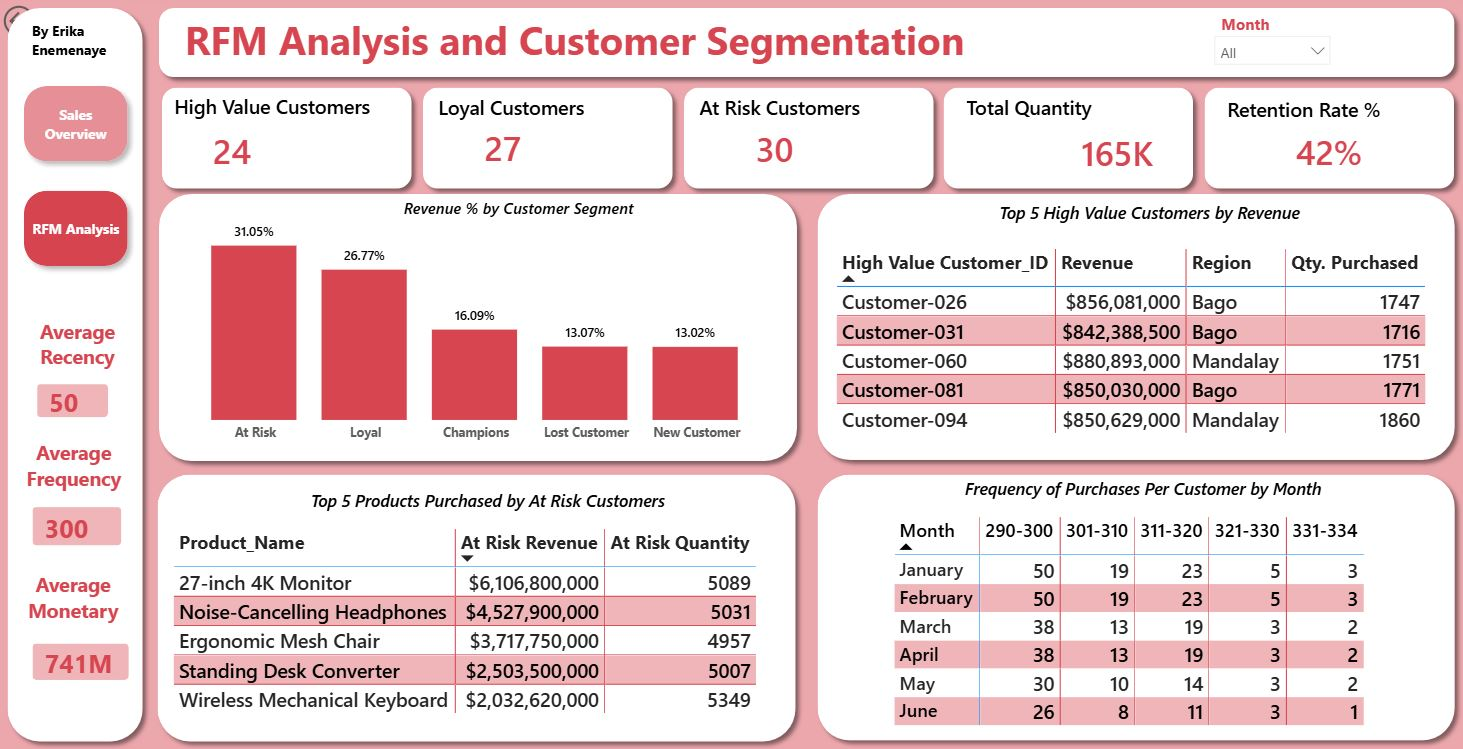

The page's visual inventory and layout, read from the dashboard file:
{"tool":"powerbi","page":{"name":"RFM Analysis","canvas":[1400,720],"ordinal":1},"visuals":[{"type":"shape","box":[145.1,-1.4,1255,84],"z":0,"group":"g14"},{"type":"shape","box":[147.2,73.8,256.4,114.6],"z":0,"group":"g4"},{"type":"shape","box":[396.2,73.8,256.4,114.6],"z":0,"group":"g6"},{"type":"shape","box":[645.1,73.8,256.4,114.6],"z":0,"group":"g7"},{"type":"shape","box":[894.1,73.8,256.4,114.6],"z":0,"group":"g8"},{"type":"shape","box":[1143.1,73.8,256.4,114.6],"z":0,"group":"g9"},{"type":"group","id":"g1","title":"Group 9","box":[144.3,177.3,627.2,273],"z":0,"group":"g20"},{"type":"shape","box":[144.3,177.3,627.2,273],"z":0,"group":"g1"},{"type":"shape","box":[0,-1.4,147.1,718.6],"z":1000,"group":"g15"},{"type":"cardVisual","fields":{"Data":["RFM Analysis & Customer Segmt.Loyal Customers"]},"box":[434.9,103.9,200.5,70.2],"z":1000,"group":"g6"},{"type":"cardVisual","fields":{"Data":["RFM Analysis & Customer Segmt.At Risk Customers"]},"box":[693.1,105.3,183.8,69.6],"z":1000,"group":"g7"},{"type":"cardVisual","fields":{"Data":["RFM Analysis & Customer Segmt.High Value Customers"]},"box":[175.8,106.7,200.5,70.2],"z":1000,"group":"g4"},{"type":"cardVisual","fields":{"Data":["RFM Analysis & Customer Segmt.Retention Rate %"]},"box":[1211,107.2,162.4,71.3],"z":1000,"group":"g9"},{"type":"cardVisual","fields":{"Data":["Sum(Sales Transaction.Quantity)"]},"box":[1006.4,108.3,131.3,70.8],"z":1000,"group":"g8"},{"type":"group","id":"g2","title":"Group 11","box":[772.9,176.6,626.5,272],"z":1000,"group":"g20"},{"type":"clusteredColumnChart","title":"Revenue by Month","fields":{"Category":["RFM Analysis & Customer Segmt.Customer Segment"],"Y":["Sales Transaction.Revenue %"]},"box":[155.8,197.3,600,234.4],"z":1000,"group":"g16"},{"type":"cardVisual","fields":{"Data":["RFM Analysis & Customer Segmt.Average Recency"]},"box":[19.5,348.7,102.9,66.1],"z":1000,"group":"g10"},{"type":"cardVisual","fields":{"Data":["RFM Analysis & Customer Segmt.Average Frequency"]},"box":[15.3,466.5,119.5,71.1],"z":1000,"group":"g11"},{"type":"cardVisual","fields":{"Data":["RFM Analysis & Customer Segmt.Average Monetary"]},"box":[14.8,597.3,126.1,69.4],"z":1000,"group":"g12"},{"type":"textbox","box":[173.2,6.6,815.2,66],"z":2000,"group":"g23"},{"type":"textbox","box":[163.5,82.4,220.3,49.7],"z":2000,"group":"g4"},{"type":"textbox","box":[920.2,83.8,166.3,42.1],"z":2000,"group":"g8"},{"type":"textbox","box":[415.2,84.2,209,41.4],"z":2000,"group":"g6"},{"type":"textbox","box":[664.1,84.2,188.2,34.5],"z":2000,"group":"g7"},{"type":"textbox","box":[1169,85.9,171,41.4],"z":2000,"group":"g9"},{"type":"textbox","box":[21.5,297.7,108.4,60],"z":2000,"group":"g10"},{"type":"textbox","box":[15.9,414,112.9,62.8],"z":2000,"group":"g11"},{"type":"shape","box":[142.9,444.6,627.2,273],"z":2000,"group":"g5"},{"type":"group","id":"g3","title":"Group 13","box":[773.6,444.6,626.5,272],"z":2000,"group":"g20"},{"type":"textbox","box":[8.2,539.4,126.1,64.5],"z":2000,"group":"g12"},{"type":"actionButton","box":[0,0,100,40],"z":3000},{"type":"group","id":"g4","title":"Group 1","box":[147.2,73.8,256.4,114.6],"z":3000,"group":"g13"},{"type":"group","id":"g5","title":"Group 15","box":[142.9,444.6,627.2,273],"z":3000,"group":"g20"},{"type":"group","id":"g6","title":"Group 1","box":[396.2,73.8,256.4,114.6],"z":4000,"group":"g13"},{"type":"textbox","box":[440.5,188.8,157.3,33.1],"z":4000},{"type":"group","id":"g7","title":"Group 1","box":[645.1,73.8,256.4,114.6],"z":5000,"group":"g13"},{"type":"textbox","box":[293.5,461.4,386.7,39.7],"z":5000,"group":"g19"},{"type":"group","id":"g8","title":"Group 1","box":[894.1,73.8,256.4,114.6],"z":6000,"group":"g13"},{"type":"textbox","box":[382,184.6,269.1,36],"z":6000,"group":"g16"},{"type":"pageNavigator","box":[14.8,73,117.8,190.1],"z":7000,"group":"g24"},{"type":"group","id":"g9","title":"Group 1","box":[1143.1,73.8,256.4,114.6],"z":7000,"group":"g13"},{"type":"tableEx","fields":{"Values":["Sales Transaction.Product_Name","RFM Analysis & Customer Segmt.At Risk Revenue","RFM Analysis & Customer Segmt.At Risk Quantity"]},"box":[161.1,500.6,594.4,192],"z":7000,"group":"g19"},{"type":"shape","box":[772.9,176.6,626.5,272],"z":8000,"group":"g2"},{"type":"group","id":"g10","title":"Group 1","box":[19.5,297.7,110.4,117.1],"z":8000,"group":"g24"},{"type":"group","id":"g11","title":"Group 1","box":[15.3,414,119.5,123.6],"z":9000,"group":"g24"},{"type":"shape","box":[773.6,444.6,626.5,272],"z":9000,"group":"g3"},{"type":"tableEx","fields":{"Values":["High Value Customer IDs.Customer_ID","Sum(Sales Transaction.Amount)","Sales Transaction.Region","Sum(Sales Transaction.Quantity)"]},"box":[793.7,232.6,586.3,194],"z":10000,"group":"g17"},{"type":"group","id":"g12","title":"Group 1","box":[8.2,539.4,132.8,127.3],"z":10000,"group":"g24"},{"type":"textbox","box":[950.3,186.6,333.3,34],"z":11000,"group":"g17"},{"type":"pivotTable","fields":{"Columns":["RFM Analysis & Customer Segmt.Frequency Bucket"],"Rows":["Sales Transaction.Date.Variation.Date Hierarchy.Month"],"Values":["Count(Sales Transaction.Customer_ID)"]},"box":[850.5,489,486.6,210.1],"z":12000,"group":"g18"},{"type":"slicer","fields":{"Values":["Sales Transaction.Date.Variation.Date Hierarchy.Month"]},"box":[1151.8,23.5,130.8,44.7],"z":13000,"group":"g22"},{"type":"textbox","box":[918,450.4,390.4,31.4],"z":13000,"group":"g18"},{"type":"textbox","box":[1163.2,6.9,119.5,31.4],"z":14000,"group":"g22"},{"type":"group","id":"g13","title":"Group 2","box":[147.2,73.8,1252.3,114.6],"z":14000},{"type":"group","id":"g14","title":"Group 5","box":[145.1,-1.4,1255,84],"z":15000,"group":"g21"},{"type":"group","id":"g15","title":"Group 7","box":[0,-1.4,147.1,718.6],"z":16000,"group":"g21"},{"type":"group","id":"g16","title":"Group 8","box":[155.8,184.6,600,247.2],"z":16001,"group":"g1"},{"type":"group","id":"g17","title":"Group 10","box":[793.7,186.6,586.3,240],"z":16003,"group":"g2"},{"type":"group","id":"g18","title":"Group 12","box":[850.5,450.4,486.6,248.7],"z":16005,"group":"g3"},{"type":"group","id":"g19","title":"Group 14","box":[161.1,461.4,594.4,231.1],"z":16007,"group":"g5"},{"type":"group","id":"g20","title":"Group 16","box":[142.9,176.6,1257.2,541.1],"z":16009,"group":"g21"},{"type":"group","id":"g21","title":"Group 17","box":[0,-1.4,1400.1,719.1],"z":16010},{"type":"textbox","box":[26.7,14.3,97.6,50],"z":21000,"group":"g24"},{"type":"group","id":"g22","title":"Group 3","box":[1151.8,6.9,130.9,61.3],"z":23000,"group":"g23"},{"type":"group","id":"g23","title":"Group 4","box":[173.2,6.6,1109.5,66],"z":23001,"group":"g14"},{"type":"group","id":"g24","title":"Group 6","box":[8.2,14.3,132.8,652.4],"z":23003,"group":"g15"}]}

Visuals, with their boxes in screenshot pixels (x1, y1, x2, y2), scaled from the page's 1400x720 canvas onto the 1463x749 screenshot:
shape: Rect(152, 0, 1462, 86)
shape: Rect(154, 77, 422, 196)
shape: Rect(414, 77, 682, 196)
shape: Rect(674, 77, 942, 196)
shape: Rect(934, 77, 1202, 196)
shape: Rect(1195, 77, 1462, 196)
"Group 9" group: Rect(151, 184, 806, 468)
shape: Rect(151, 184, 806, 468)
shape: Rect(0, 0, 154, 746)
cardVisual - RFM Analysis & Customer Segmt.Loyal Customers: Rect(454, 108, 664, 181)
cardVisual - RFM Analysis & Customer Segmt.At Risk Customers: Rect(724, 110, 916, 182)
cardVisual - RFM Analysis & Customer Segmt.High Value Customers: Rect(184, 111, 393, 184)
cardVisual - RFM Analysis & Customer Segmt.Retention Rate %: Rect(1265, 112, 1435, 186)
cardVisual - Sum(Sales Transaction.Quantity): Rect(1052, 113, 1189, 186)
"Group 11" group: Rect(808, 184, 1462, 467)
"Revenue by Month" clusteredColumnChart: Rect(163, 205, 790, 449)
cardVisual - RFM Analysis & Customer Segmt.Average Recency: Rect(20, 363, 128, 432)
cardVisual - RFM Analysis & Customer Segmt.Average Frequency: Rect(16, 485, 141, 559)
cardVisual - RFM Analysis & Customer Segmt.Average Monetary: Rect(15, 621, 147, 694)
textbox: Rect(181, 7, 1033, 76)
textbox: Rect(171, 86, 401, 137)
textbox: Rect(962, 87, 1135, 131)
textbox: Rect(434, 88, 652, 131)
textbox: Rect(694, 88, 891, 123)
textbox: Rect(1222, 89, 1400, 132)
textbox: Rect(22, 310, 136, 372)
textbox: Rect(17, 431, 135, 496)
shape: Rect(149, 463, 805, 747)
"Group 13" group: Rect(808, 463, 1462, 745)
textbox: Rect(9, 561, 140, 628)
actionButton: Rect(0, 0, 104, 42)
"Group 1" group: Rect(154, 77, 422, 196)
"Group 15" group: Rect(149, 463, 805, 747)
"Group 1" group: Rect(414, 77, 682, 196)
textbox: Rect(460, 196, 625, 231)
"Group 1" group: Rect(674, 77, 942, 196)
textbox: Rect(307, 480, 711, 521)
"Group 1" group: Rect(934, 77, 1202, 196)
textbox: Rect(399, 192, 680, 229)
pageNavigator: Rect(15, 76, 139, 274)
"Group 1" group: Rect(1195, 77, 1462, 196)
tableEx - Sales Transaction.Product_Name x RFM Analysis & Customer Segmt.At Risk Revenue: Rect(168, 521, 789, 720)
shape: Rect(808, 184, 1462, 467)
"Group 1" group: Rect(20, 310, 136, 432)
"Group 1" group: Rect(16, 431, 141, 559)
shape: Rect(808, 463, 1462, 745)
tableEx - High Value Customer IDs.Customer_ID x Sum(Sales Transaction.Amount): Rect(829, 242, 1442, 444)
"Group 1" group: Rect(9, 561, 147, 694)
textbox: Rect(993, 194, 1341, 229)
pivotTable - RFM Analysis & Customer Segmt.Frequency Bucket x Sales Transaction.Date.Variation.Date Hierarchy.Month: Rect(889, 509, 1397, 727)
slicer - Sales Transaction.Date.Variation.Date Hierarchy.Month: Rect(1204, 24, 1340, 71)
textbox: Rect(959, 469, 1367, 501)
textbox: Rect(1216, 7, 1340, 40)
"Group 2" group: Rect(154, 77, 1462, 196)
"Group 5" group: Rect(152, 0, 1462, 86)
"Group 7" group: Rect(0, 0, 154, 746)
"Group 8" group: Rect(163, 192, 790, 449)
"Group 10" group: Rect(829, 194, 1442, 444)
"Group 12" group: Rect(889, 469, 1397, 727)
"Group 14" group: Rect(168, 480, 789, 720)
"Group 16" group: Rect(149, 184, 1462, 747)
"Group 17" group: Rect(0, 0, 1462, 747)
textbox: Rect(28, 15, 130, 67)
"Group 3" group: Rect(1204, 7, 1340, 71)
"Group 4" group: Rect(181, 7, 1340, 76)
"Group 6" group: Rect(9, 15, 147, 694)
